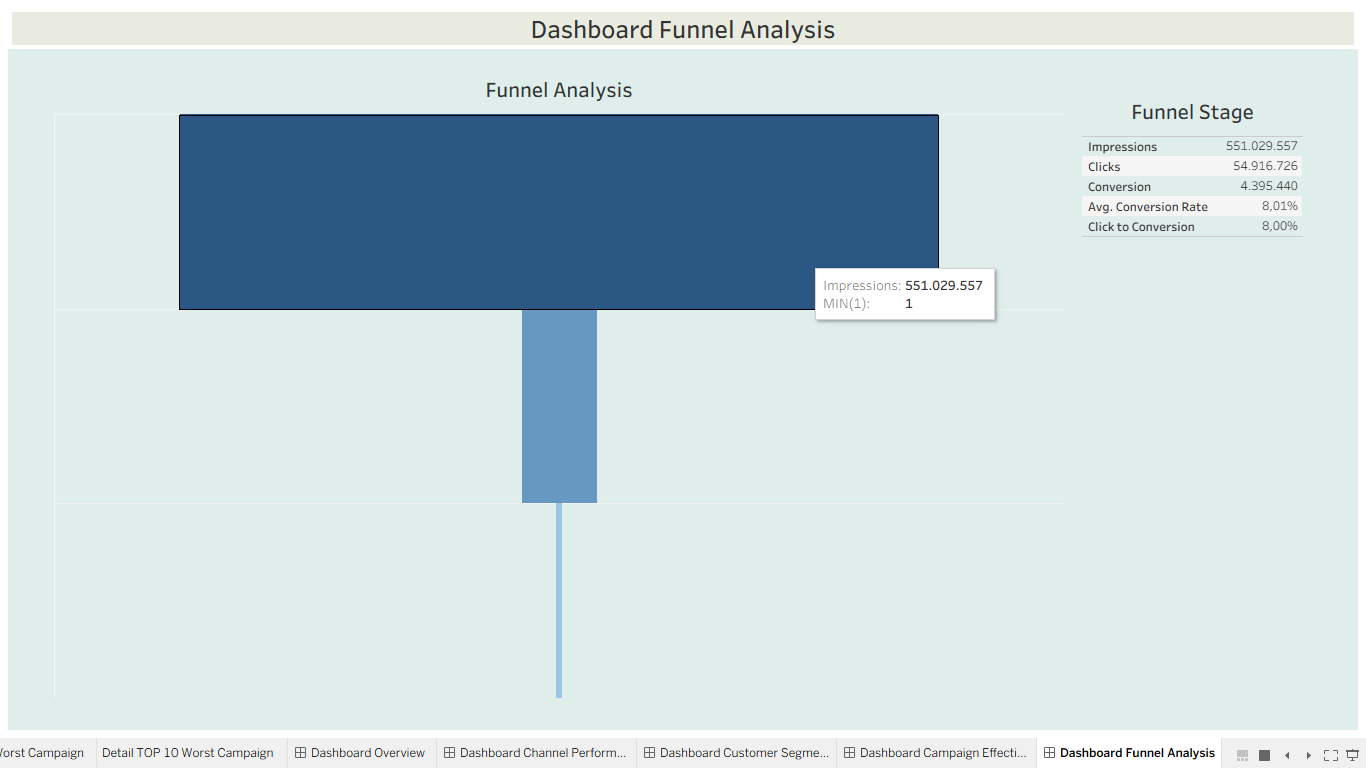

This screenshot's page, from the dashboard's own definition file:
{"tool":"tableau","page":{"name":"Dashboard Funnel Analysis","canvas":[1000,1000],"units":"permille","ordinal":3},"visuals":[{"type":"title","box":[5.9,10.8,988.3,55.6]},{"type":"worksheet","title":"Funnel Analysis","mark":"Bar","rows":["Calculation_1684191599001604"],"box":[39.8,96.3,739.4,849.7]},{"type":"worksheet","title":"Funnel Stage","mark":"Automatic","box":[792.2,126.7,197.4,268.6]}]}

Visuals, with their boxes on the dashboard's canvas, which has no fixed pixel size, in thousandths of its width and height (x1, y1, x2, y2). These are canvas units, not pixel positions in the 1366x768 screenshot, which may show the page scaled, cropped or inside an application window:
title: (left=6, top=11, right=994, bottom=66)
"Funnel Analysis" worksheet (Bar marks): (left=40, top=96, right=779, bottom=946)
"Funnel Stage" worksheet: (left=792, top=127, right=990, bottom=395)
